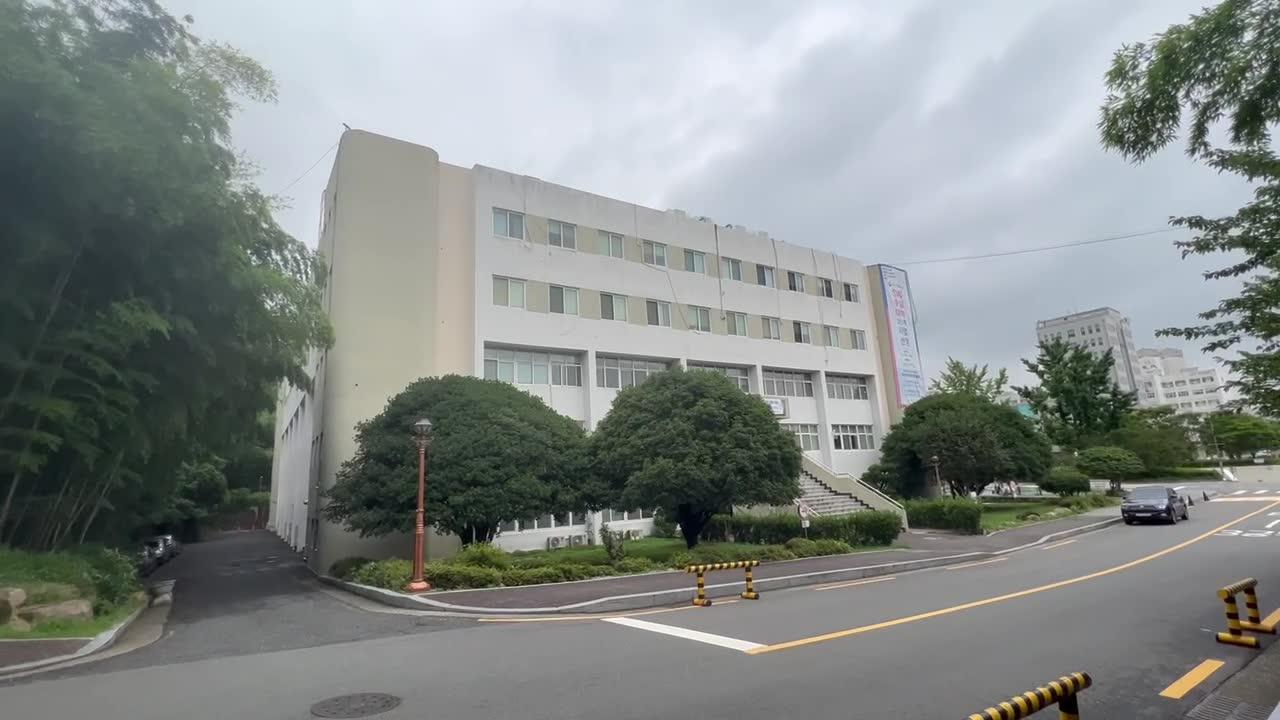building: (360, 143, 874, 379)
